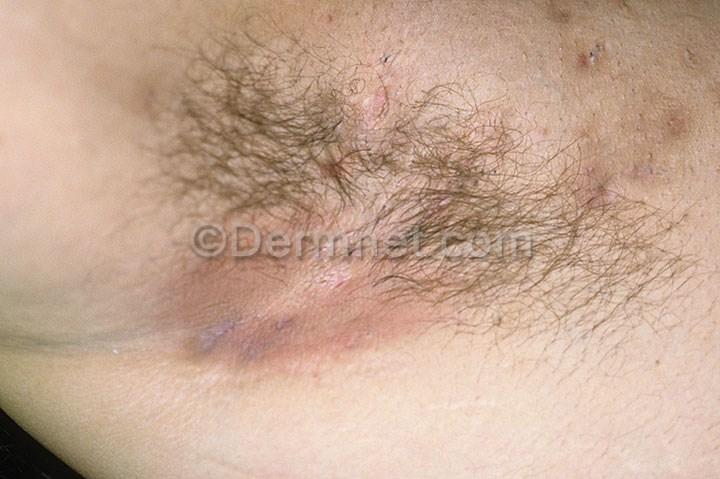Acne: (557, 48, 624, 102), (527, 0, 605, 40)
